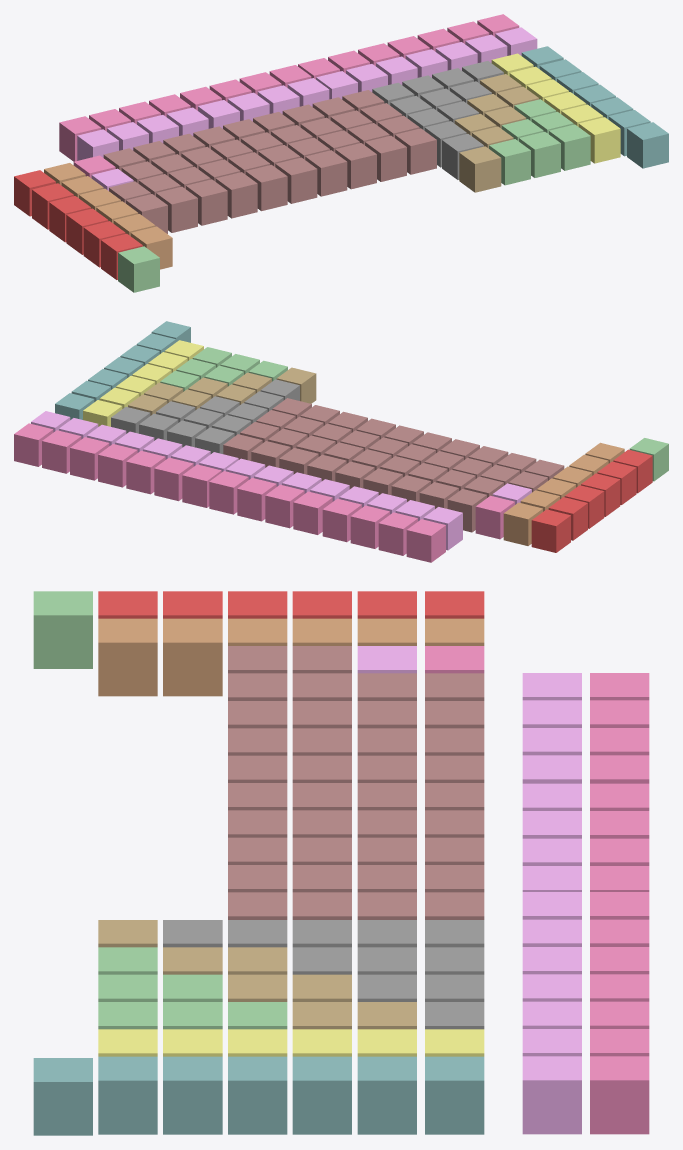
The picture shows the model from 3 angles, top to bottom: view 1: azimuth 30°, elevation 25°; view 2: azimuth 150°, elevation 25°; view 3: azimuth 270°, elevation 25°; orthographic projection. The views are drawn at different scales.
Visible parts, largest first — view 1: the elements; view 2: the elements; view 3: the elements.
Part boxes in pixels (x1,y1,x2,y2): the elements: [14, 14, 668, 292]; the elements: [14, 321, 668, 562]; the elements: [33, 591, 649, 1135].
Bounding box in the file's own units: 246 × 12.58 × 130.
